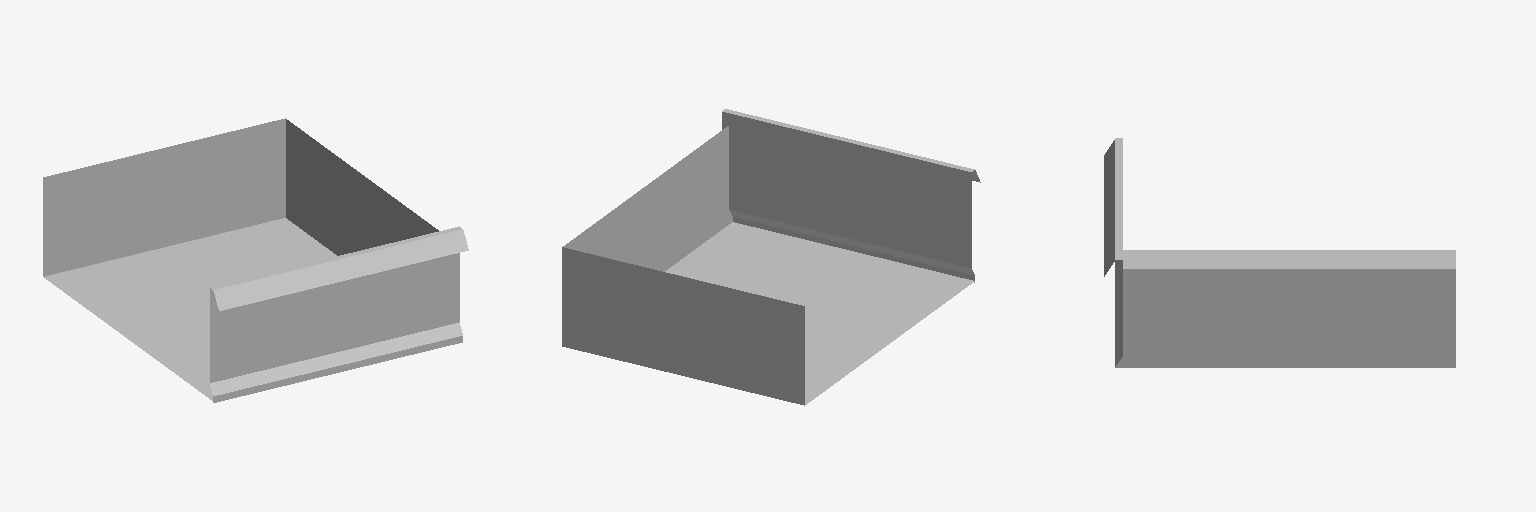
File: original-2.obj
3 views of the same model, side by side, from view 1: azimuth 30°, elevation 25°; view 2: azimuth 150°, elevation 25°; view 3: azimuth 270°, elevation 25° (orthographic).
Parts seen in each view (by area): view 1: Component_3_1/Component_3/mesh1/mesh1-geometry#mesh1-geometry; view 2: Component_3_1/Component_3/mesh1/mesh1-geometry#mesh1-geometry; view 3: Component_3_1/Component_3/mesh1/mesh1-geometry#mesh1-geometry.
Boxes of the visible parts, x1,y1,x2,y2 form: Component_3_1/Component_3/mesh1/mesh1-geometry#mesh1-geometry: [43, 118, 468, 402]; Component_3_1/Component_3/mesh1/mesh1-geometry#mesh1-geometry: [562, 109, 980, 405]; Component_3_1/Component_3/mesh1/mesh1-geometry#mesh1-geometry: [1104, 138, 1455, 367].
Bounding box in the file's own units: 0.4189 × 0.1813 × 0.5109.